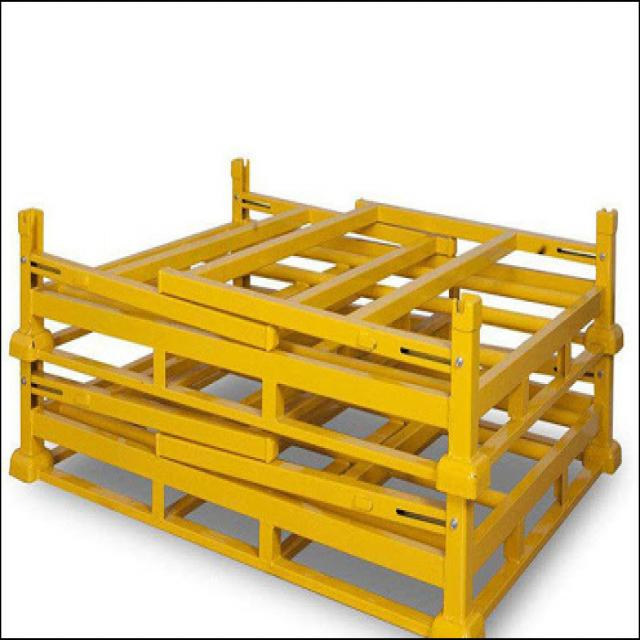broyeur: (17, 205, 623, 499), (7, 384, 630, 638)
